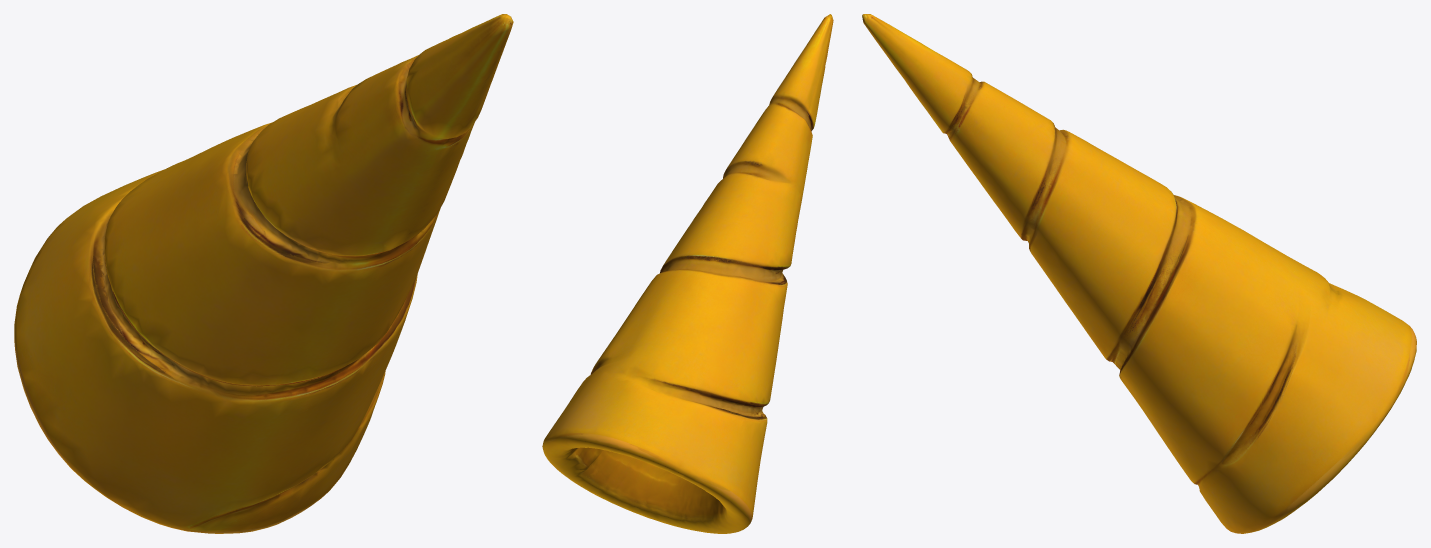
The model's file is Uni-Horn.glb.
3 renders of one model, left to right at view 1: azimuth 30°, elevation 25°; view 2: azimuth 150°, elevation 25°; view 3: azimuth 270°, elevation 25°, orthographic. The views are drawn at different scales.
Parts seen in each view (by area): view 1: Uni-Horn; view 2: Uni-Horn; view 3: Uni-Horn.
Part boxes in pixels (x1=…): Uni-Horn: x1=14, y1=14, x2=513, y2=533; Uni-Horn: x1=542, y1=14, x2=833, y2=533; Uni-Horn: x1=862, y1=14, x2=1416, y2=533.
Size of the model in its own units: 0.1035 by 0.2076 by 0.2076.
1 material, 1 textured.
